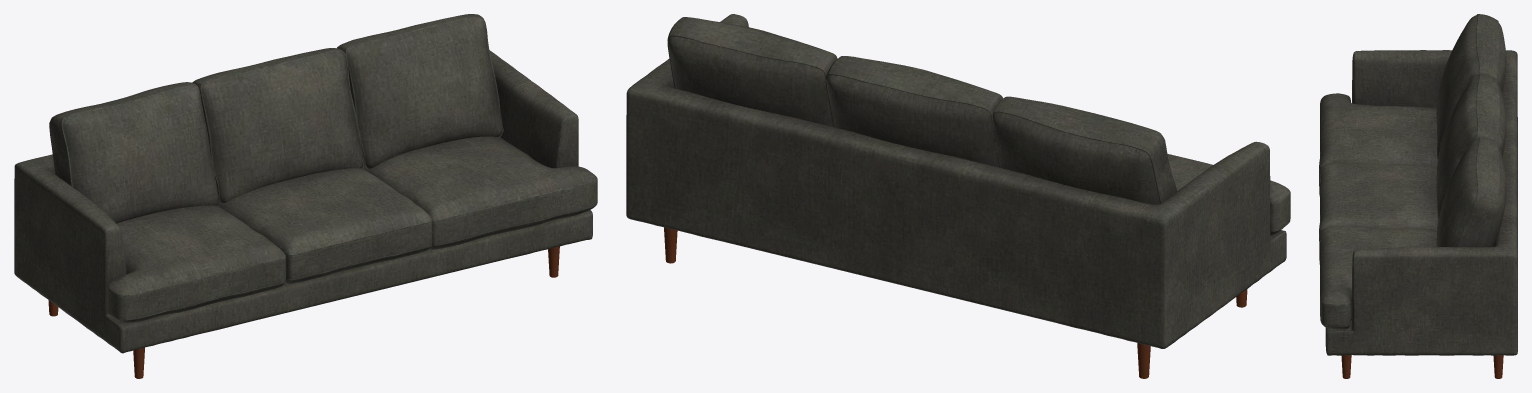
The model's file is abo-B07HZ57QD3.glb.
3 renders of one model, left to right at view 1: azimuth 30°, elevation 25°; view 2: azimuth 150°, elevation 25°; view 3: azimuth 270°, elevation 25°, orthographic. The views are drawn at different scales.
Size of the model in its own units: 2.25 by 0.93 by 0.903.
Materials: 1 (1 with a texture image).
